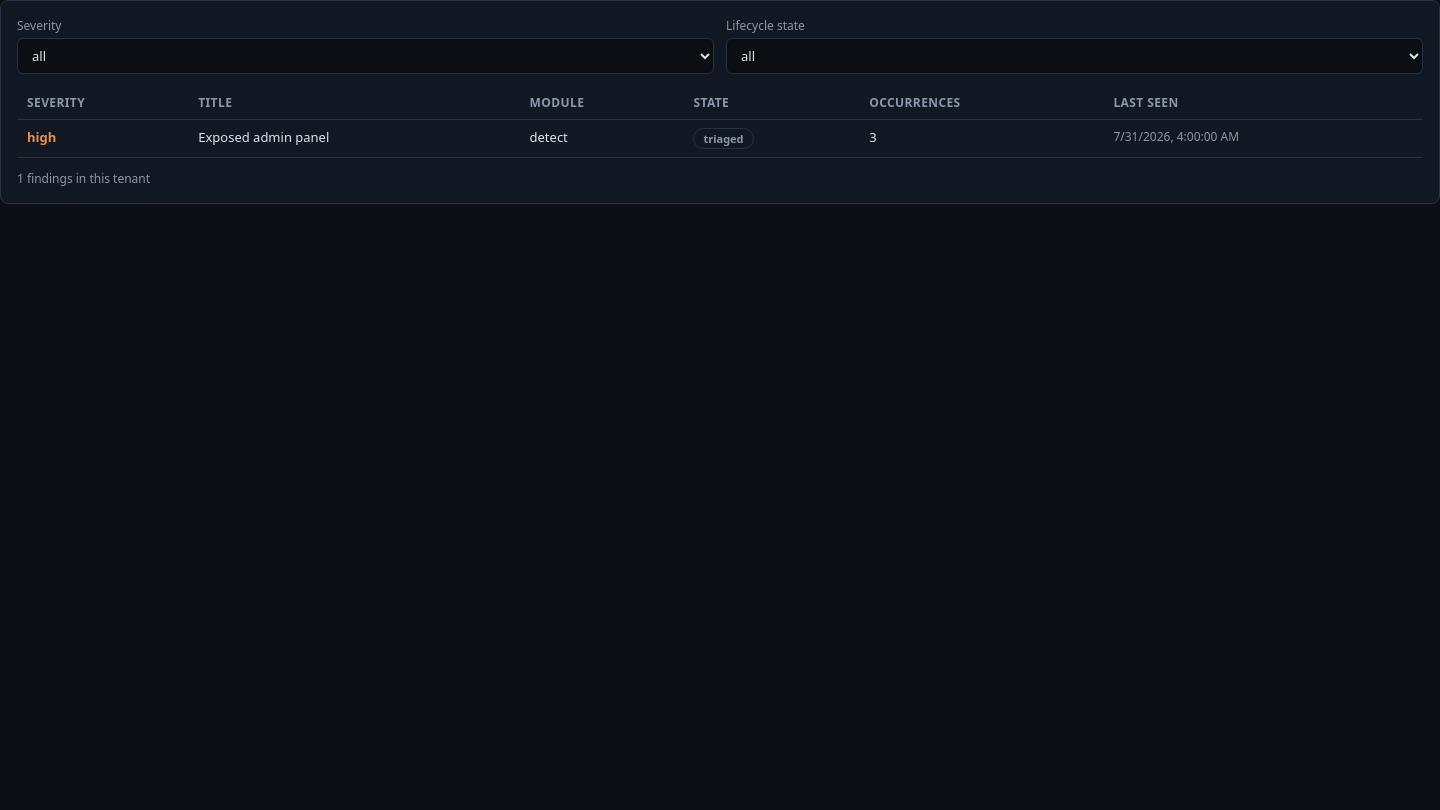
Scenario: FindingsBoard — RBAC-gated transition buttons › disables transitions and explains why without the findings.triage affordance
Click the text "Exposed admin panel": (354, 138) x1=188 y1=120 x2=520 y2=158
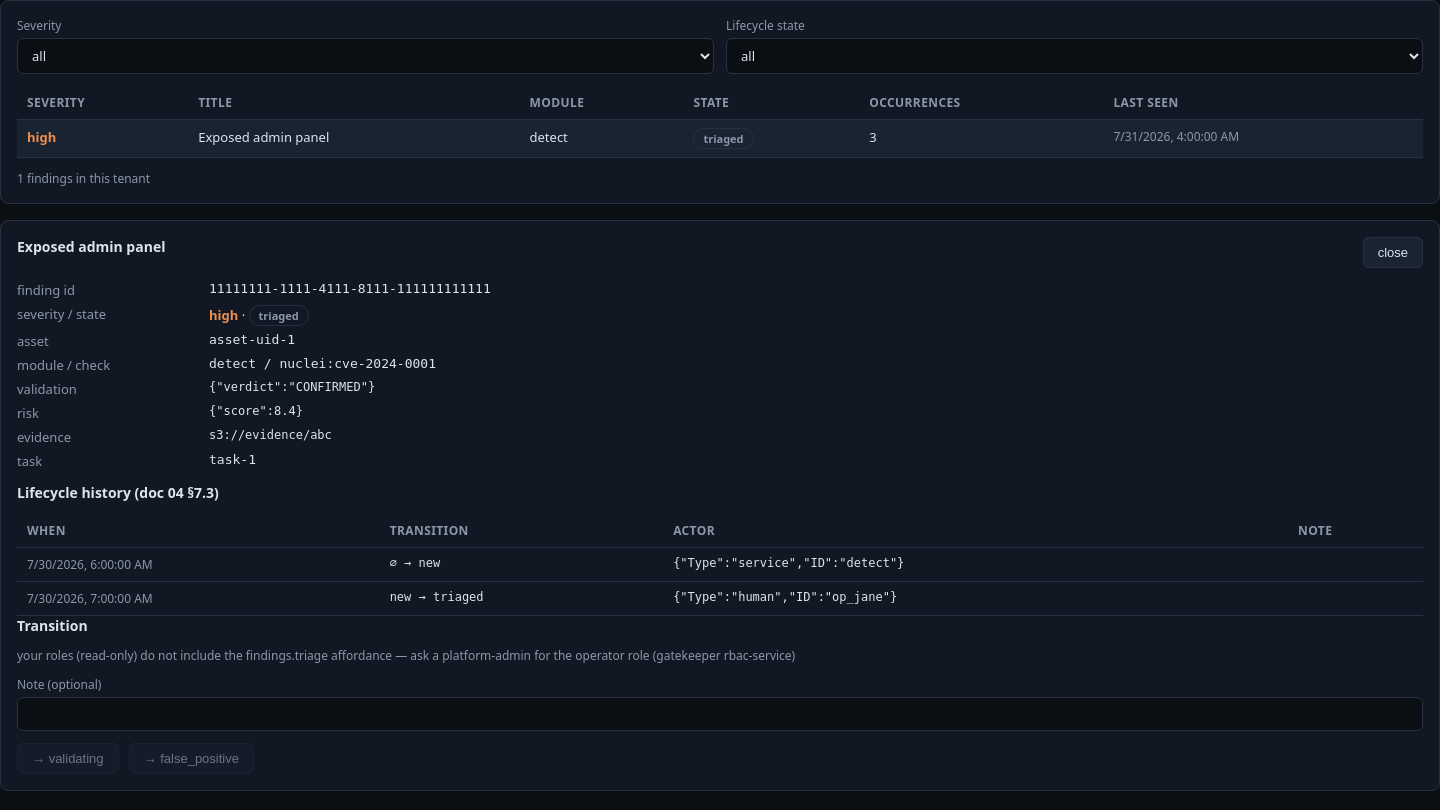
Now the text with test id "triage-denied" is shown, box x1=17 y1=647 x2=795 y2=664
Now the button "→ validating" is disabled, box x1=17 y1=743 x2=119 y2=774
Now the button "→ false_positive" is disabled, box x1=129 y1=743 x2=254 y2=774
